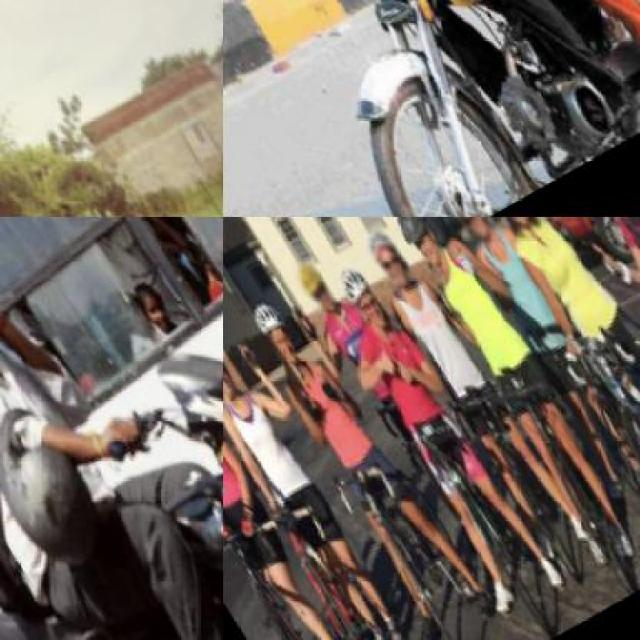With Helmet: (321, 255, 393, 338), (232, 287, 302, 370), (372, 217, 454, 278), (351, 218, 415, 292), (281, 255, 336, 316), (428, 217, 503, 257), (471, 217, 552, 246), (223, 323, 245, 409)
